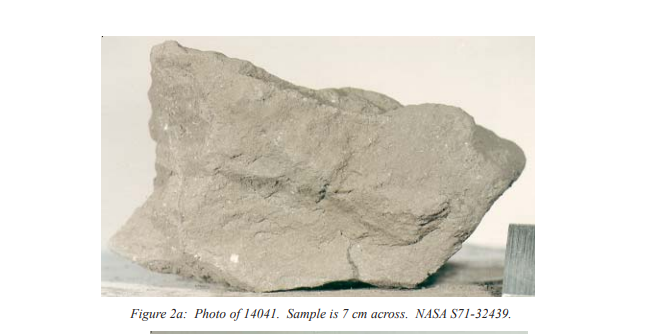Breccia: (112, 35, 512, 285)
